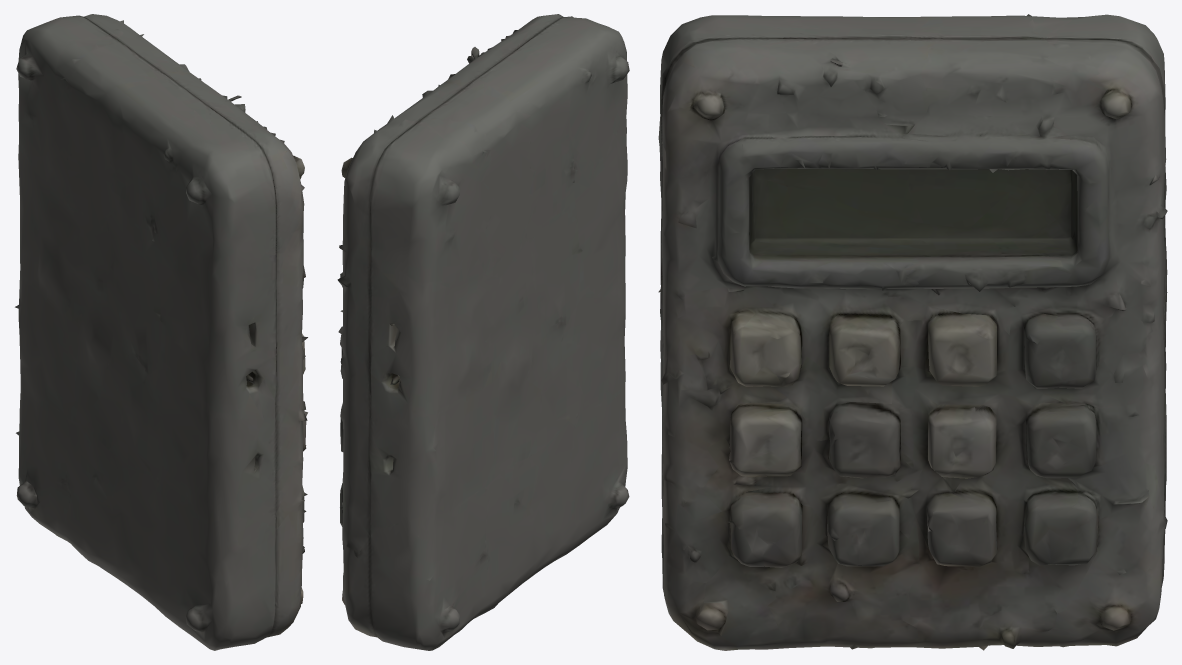
The model's file is keypad.glb.
The picture shows the model from 3 angles, left to right: view 1: azimuth 30°, elevation 25°; view 2: azimuth 150°, elevation 25°; view 3: azimuth 270°, elevation 25°; orthographic projection. The views are drawn at different scales.
Parts seen in each view (by area): view 1: tripo_node_115e8cf9-875e-4b8d-9dca-17ba4ee30483; view 2: tripo_node_115e8cf9-875e-4b8d-9dca-17ba4ee30483; view 3: tripo_node_115e8cf9-875e-4b8d-9dca-17ba4ee30483.
Boxes of the visible parts, <box> form: tripo_node_115e8cf9-875e-4b8d-9dca-17ba4ee30483: <box>15,14,307,650</box>; tripo_node_115e8cf9-875e-4b8d-9dca-17ba4ee30483: <box>337,14,629,650</box>; tripo_node_115e8cf9-875e-4b8d-9dca-17ba4ee30483: <box>658,14,1167,650</box>.
Bounding box in the file's own units: 0.2814 × 1 × 0.7632.
Materials: 1 (1 with a texture image).
